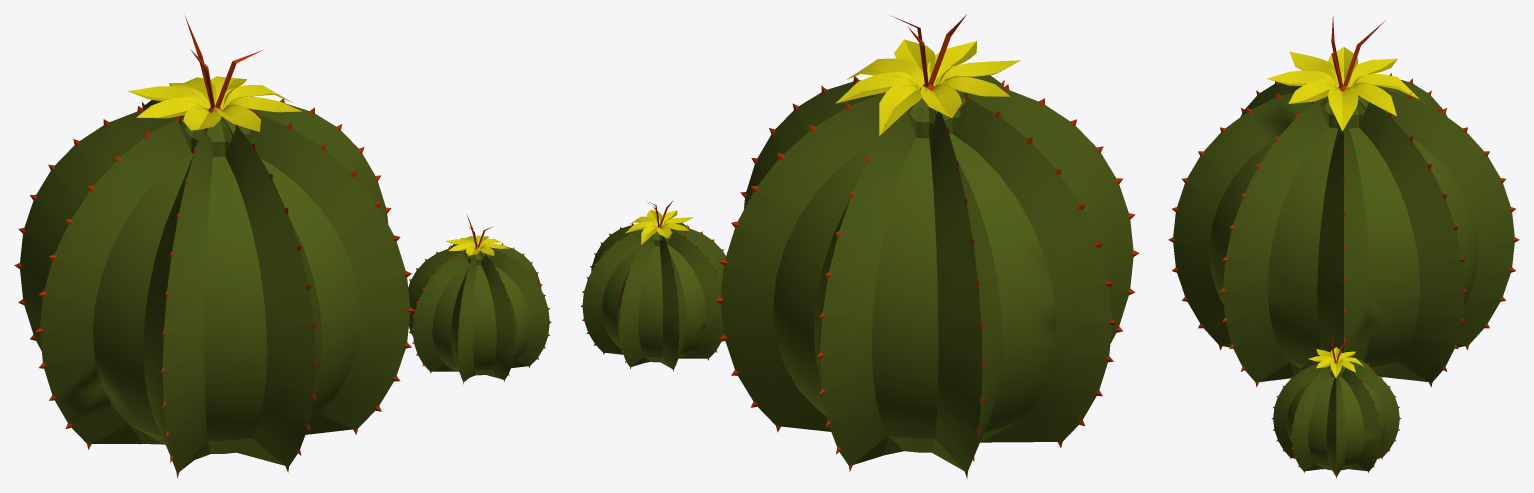
Rendered from BigCactusSphere01.FBX.
3 views of the same model, side by side, from view 1: azimuth 30°, elevation 25°; view 2: azimuth 150°, elevation 25°; view 3: azimuth 270°, elevation 25° (orthographic). The views are drawn at different scales.
Visible parts, largest first — view 1: BigCactusSphere01; view 2: BigCactusSphere01; view 3: BigCactusSphere01.
Part boxes in pixels (x1,y1,x2,y2): BigCactusSphere01: [14, 16, 551, 478]; BigCactusSphere01: [580, 14, 1138, 478]; BigCactusSphere01: [1168, 16, 1519, 478].
Size of the model in its own units: 39.47 by 29.52 by 28.17.
